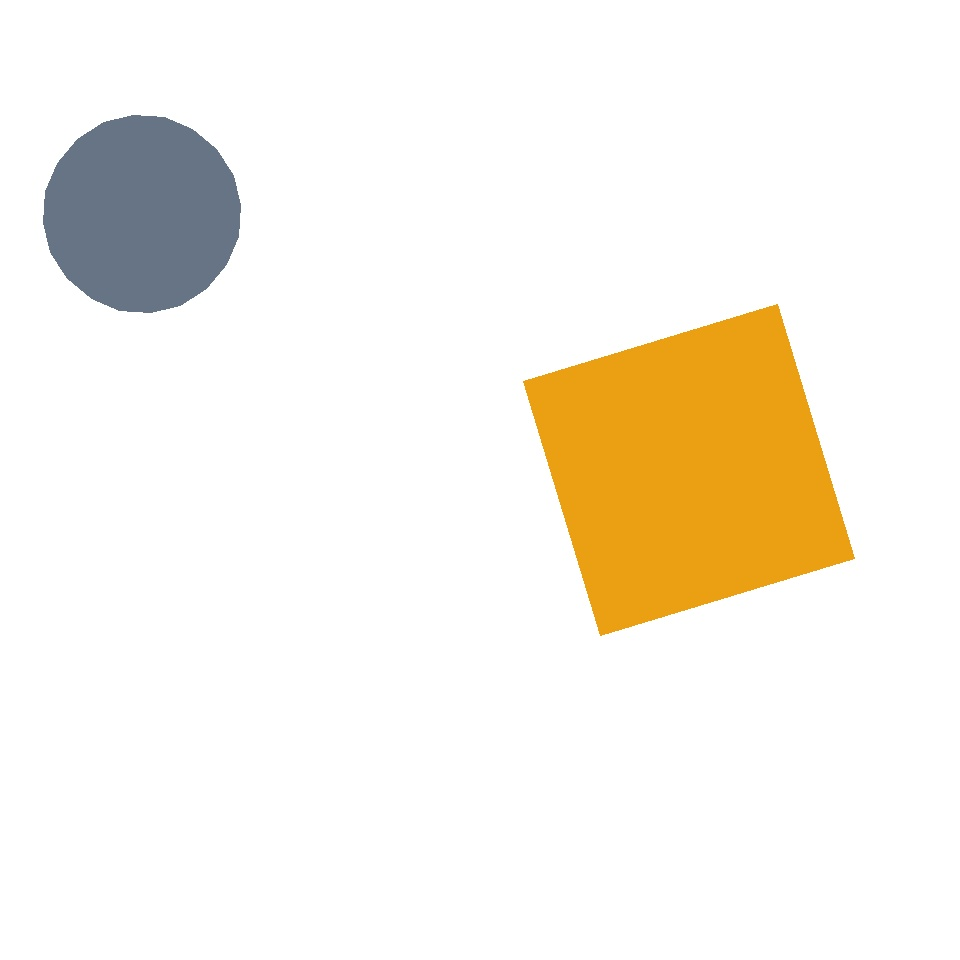circle: (558, 260, 864, 550), (50, 476, 318, 721), (682, 569, 902, 808), (590, 298, 764, 452), (74, 562, 162, 660)
square: (524, 304, 854, 636), (498, 73, 721, 296)
triangle: (44, 116, 240, 313)
